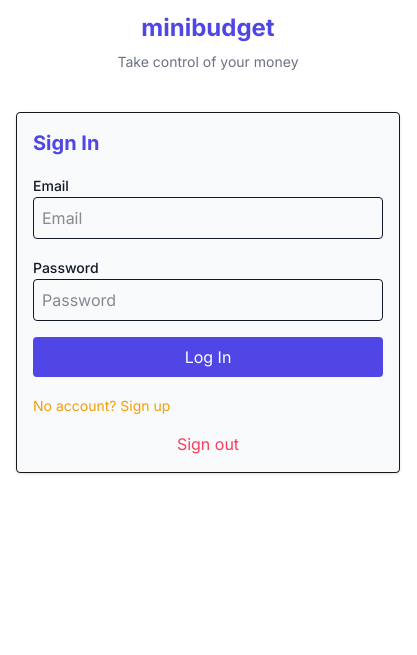
AuthForm › toggles to sign up form
Click the button "No account? Sign up". click: (102, 406)
box: left=33, top=396, right=170, bottom=416
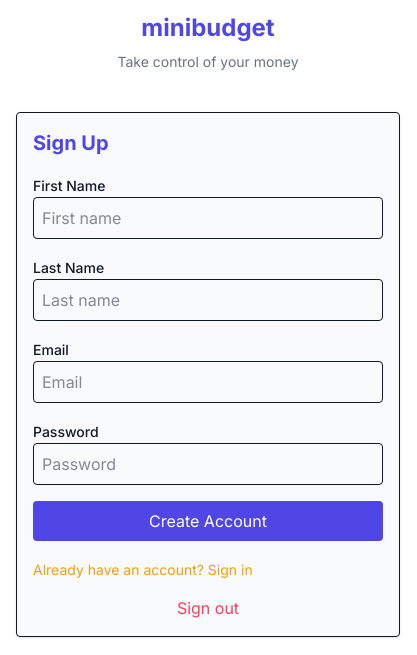
Check: the heading "Sign Up" is shown, box left=33, top=131, right=109, bottom=155
Check: the field labelled "First Name" is shown, box left=33, top=197, right=383, bottom=239
Check: the field labelled "Last Name" is shown, box left=33, top=279, right=383, bottom=321
